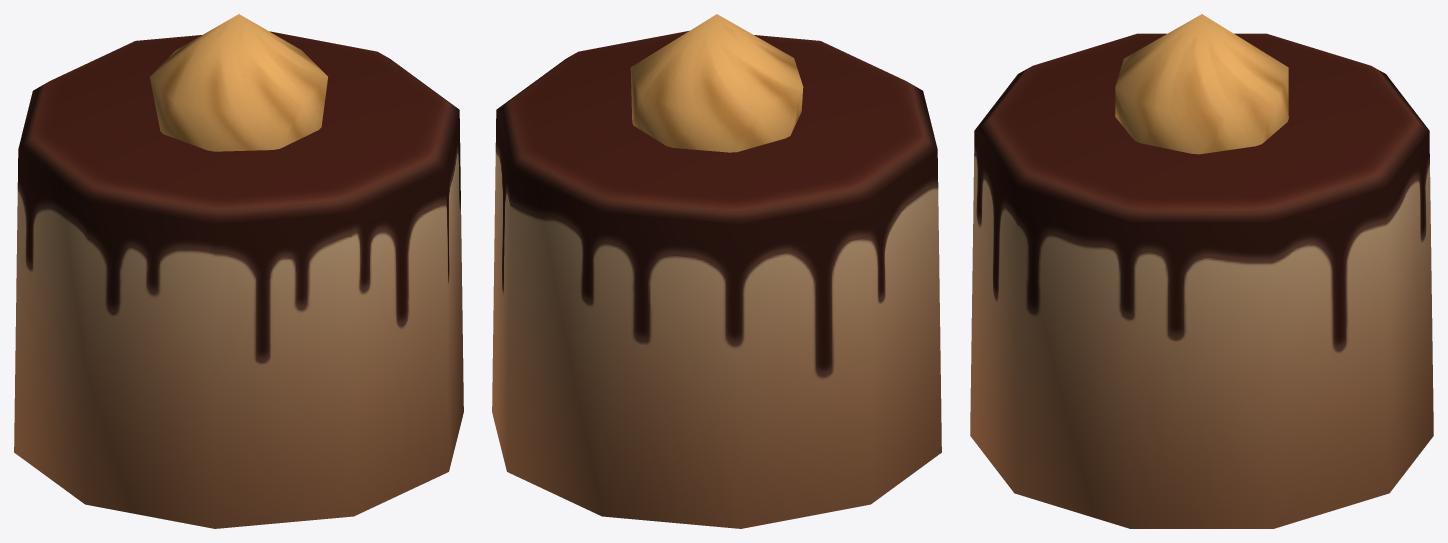
The model's file is ChocDrip_Small.fbx.
3 views of the same model, side by side, from view 1: azimuth 30°, elevation 25°; view 2: azimuth 150°, elevation 25°; view 3: azimuth 270°, elevation 25° (orthographic).
Parts seen in each view (by area): view 1: ChocDrip_Small; view 2: ChocDrip_Small; view 3: ChocDrip_Small.
Boxes of the visible parts, left/top/right/bottom form: ChocDrip_Small: left=14, top=14, right=463, bottom=528; ChocDrip_Small: left=492, top=14, right=941, bottom=528; ChocDrip_Small: left=970, top=14, right=1433, bottom=528.
Size of the model in its own units: 36.87 by 38.95 by 38.77.
